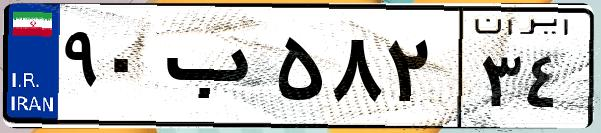0: (110, 28, 158, 98)
2: (385, 28, 445, 110)
3: (475, 38, 525, 113)
4: (525, 38, 570, 115)
5: (270, 28, 330, 110)
8: (330, 28, 385, 110)
9: (57, 26, 110, 100)
ب: (158, 20, 270, 120)
